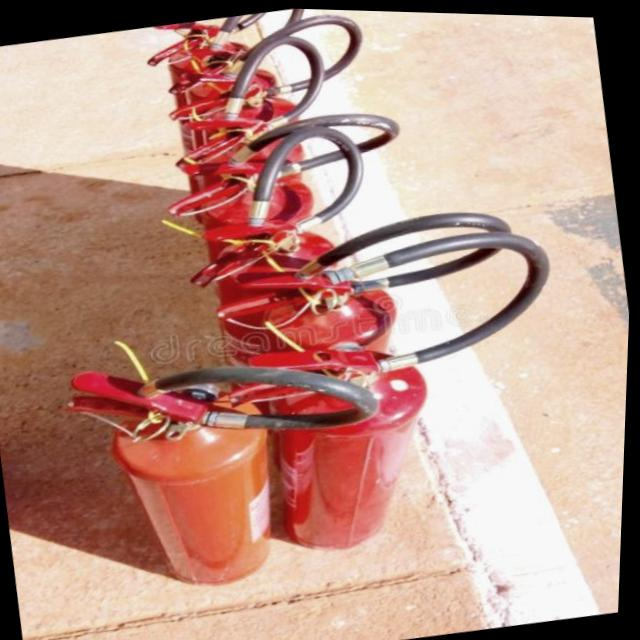FireExtinguisher: (211, 207, 612, 569), (190, 188, 563, 508), (51, 321, 413, 612), (165, 106, 447, 465)
